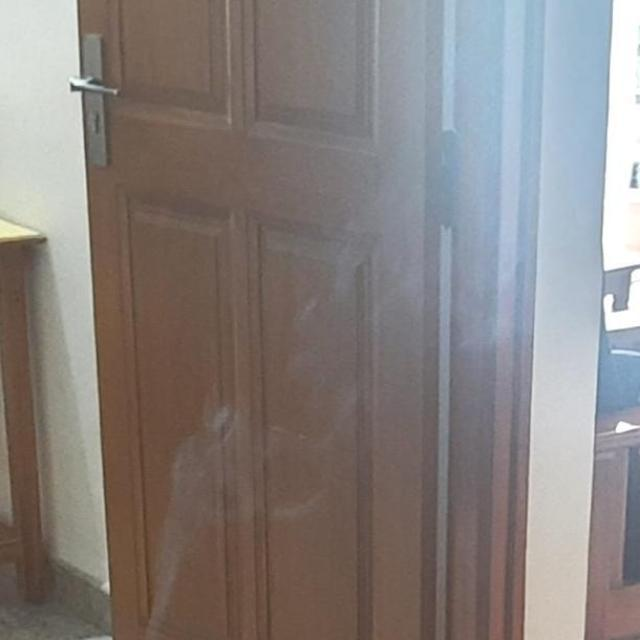fire: (138, 383, 258, 640)
